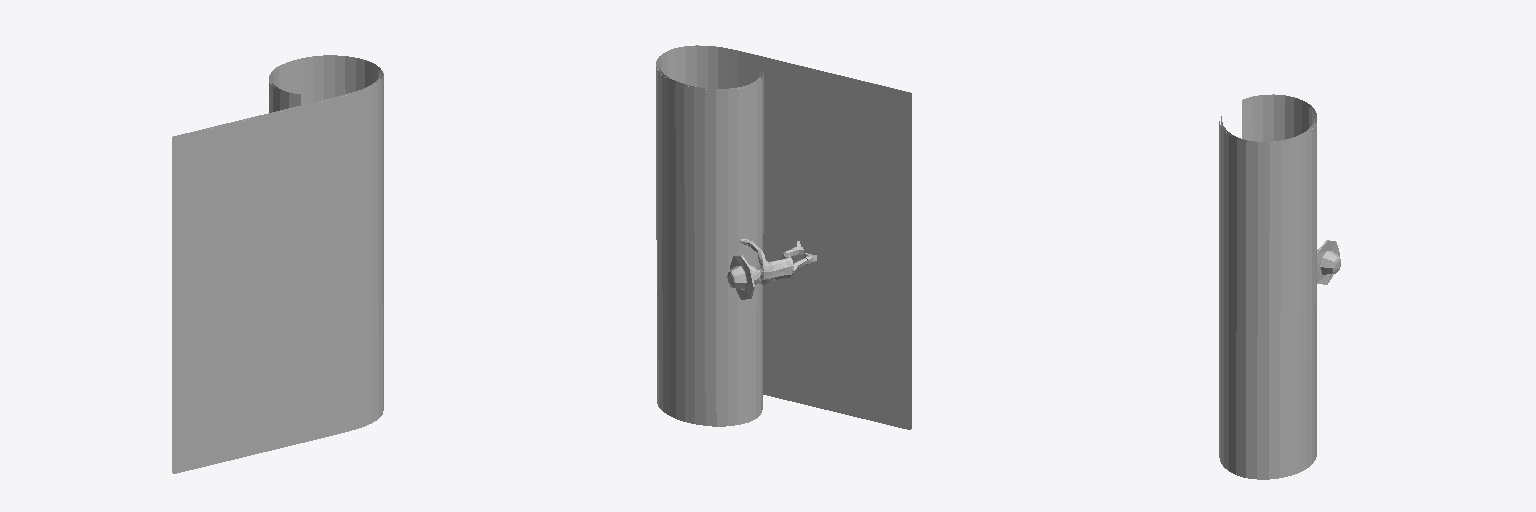
File: start_file2_000047.obj
3 views of the same model, side by side, from view 1: azimuth 30°, elevation 25°; view 2: azimuth 150°, elevation 25°; view 3: azimuth 270°, elevation 25° (orthographic).
Visible parts, largest first — view 1: Cube_Cube.001; view 2: Cube_Cube.001, Character_Cube; view 3: Cube_Cube.001, Character_Cube.
Boxes of the visible parts, x1=… form: Cube_Cube.001: x1=172, y1=55, x2=383, y2=473; Cube_Cube.001: x1=656, y1=45, x2=911, y2=429; Character_Cube: x1=727, y1=239, x2=816, y2=299; Cube_Cube.001: x1=1219, y1=94, x2=1316, y2=479; Character_Cube: x1=1317, y1=240, x2=1340, y2=284.
Size of the model in its own units: 1.08 by 1.52 by 0.5044.